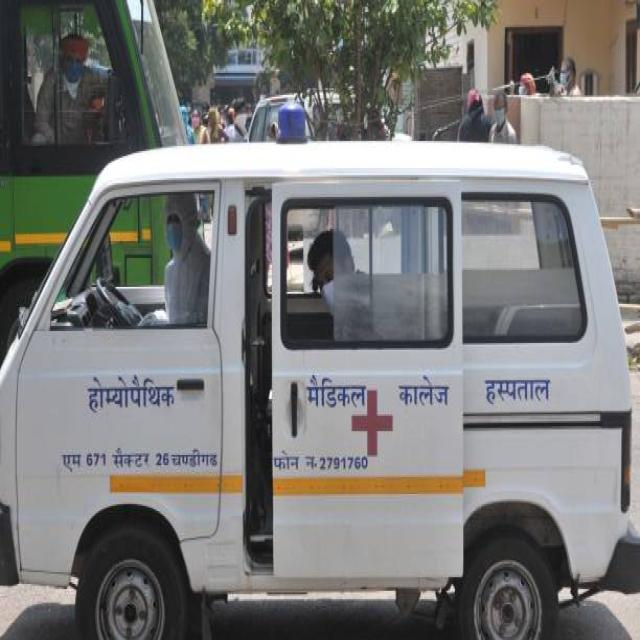ambulance: (5, 146, 640, 639)
